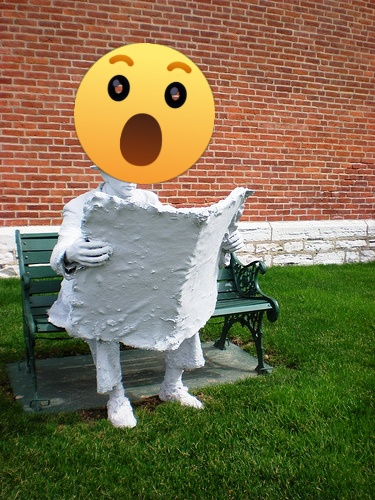wow: (74, 43, 215, 184)
